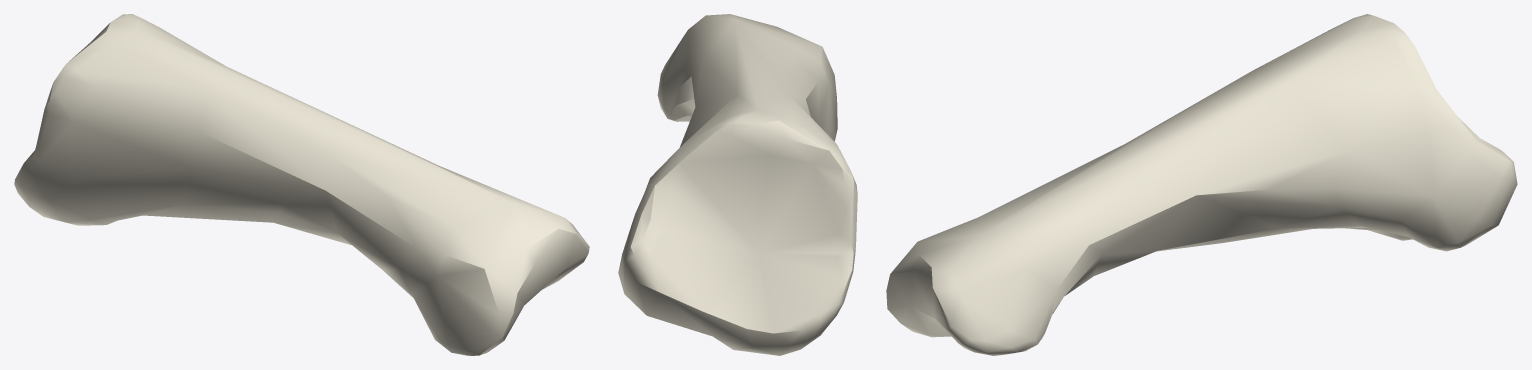
The model's file is fma32636_fj6416.glb.
The picture shows the model from 3 angles, left to right: view 1: azimuth 30°, elevation 25°; view 2: azimuth 150°, elevation 25°; view 3: azimuth 270°, elevation 25°; orthographic projection. The views are drawn at different scales.
Visible parts, largest first — view 1: FMA32636_FJ6416; view 2: FMA32636_FJ6416; view 3: FMA32636_FJ6416.
Part boxes in pixels (bbox=[...]): FMA32636_FJ6416: bbox=[14, 14, 589, 355]; FMA32636_FJ6416: bbox=[618, 14, 857, 355]; FMA32636_FJ6416: bbox=[886, 14, 1517, 355].
Size of the model in its own units: 0.0207 by 0.0117 by 0.0282.
